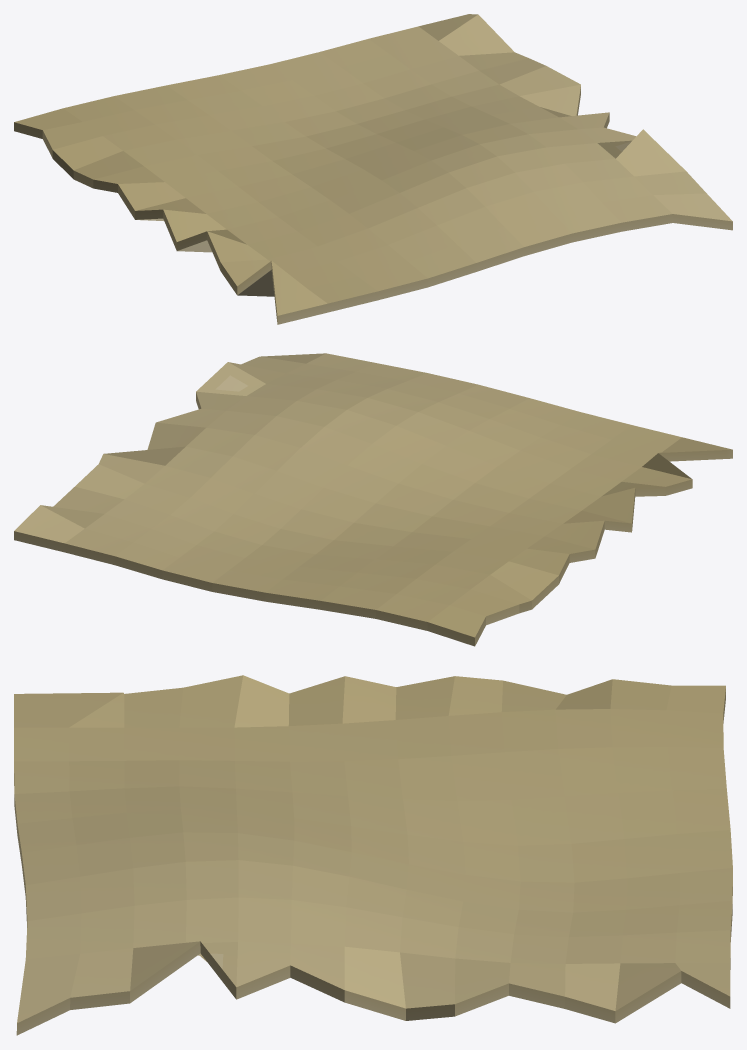
The model's file is paper.fbx.
3 views of the same model, one above another, from view 1: azimuth 30°, elevation 25°; view 2: azimuth 150°, elevation 25°; view 3: azimuth 270°, elevation 25° (orthographic). The views are drawn at different scales.
Visible parts, largest first — view 1: 立方体; view 2: 立方体; view 3: 立方体.
Boxes of the visible parts, x1=… form: 立方体: x1=14, y1=14, x2=732, y2=324; 立方体: x1=14, y1=353, x2=732, y2=646; 立方体: x1=14, y1=675, x2=732, y2=1035.
Size of the model in its own units: 208 by 24.39 by 201.
1 material, 1 textured.
